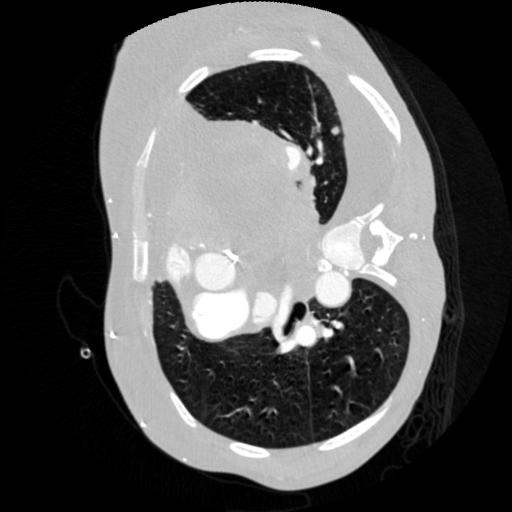nodule: (326, 121, 344, 139)
